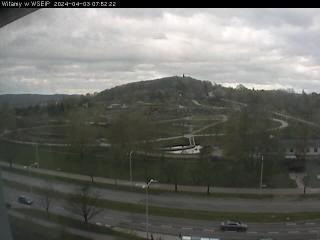car: (219, 219, 248, 232), (18, 195, 33, 205)
